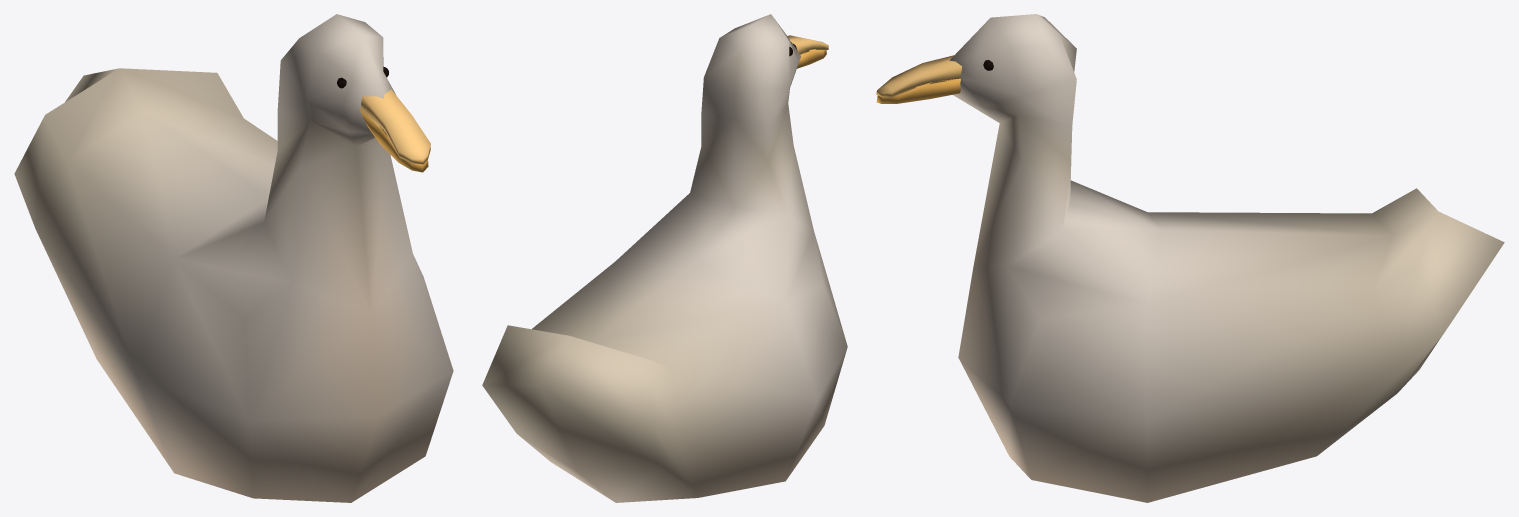
The model's file is DuckWhite.fbx.
The picture shows the model from 3 angles, left to right: view 1: azimuth 30°, elevation 25°; view 2: azimuth 150°, elevation 25°; view 3: azimuth 270°, elevation 25°; orthographic projection. The views are drawn at different scales.
Parts seen in each view (by area): view 1: DuckWhite.001; view 2: DuckWhite.001; view 3: DuckWhite.001.
Boxes of the visible parts, x1,y1,x2,y2 form: DuckWhite.001: (14, 14, 453, 502); DuckWhite.001: (482, 14, 847, 502); DuckWhite.001: (876, 14, 1504, 502).
Size of the model in its own units: 31.2 by 65.41 by 55.05.
